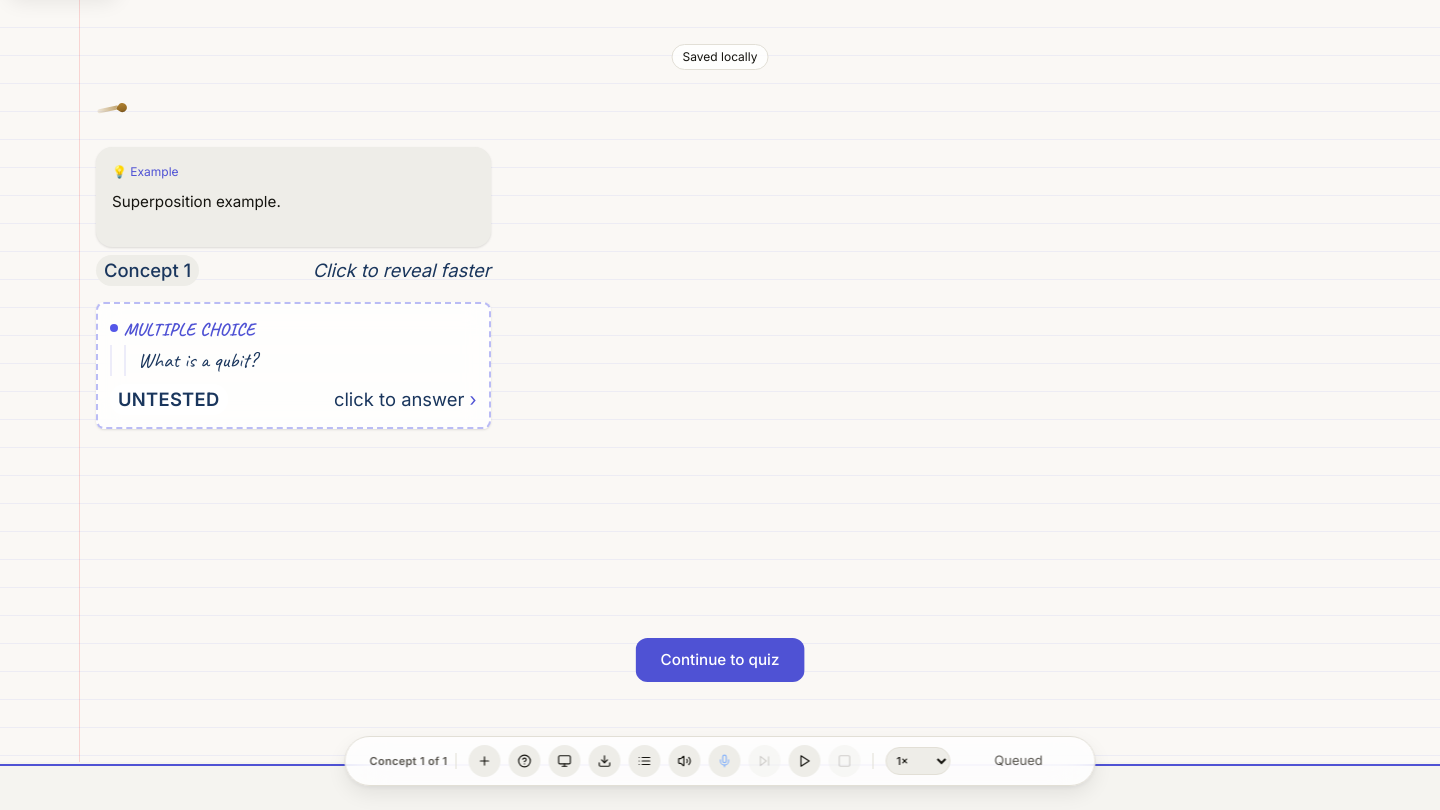
Test: CanvasPage — notebook-mode outline/TOC (NB-5) › renders a table-of-contents button and opens the outline with node titles
The image size is (1440, 810).
What coordinates should you click on to do the following:
click the button titled "Table of contents"
I would click on:
 (644, 761)
Its box is x1=628 y1=745 x2=660 y2=777.
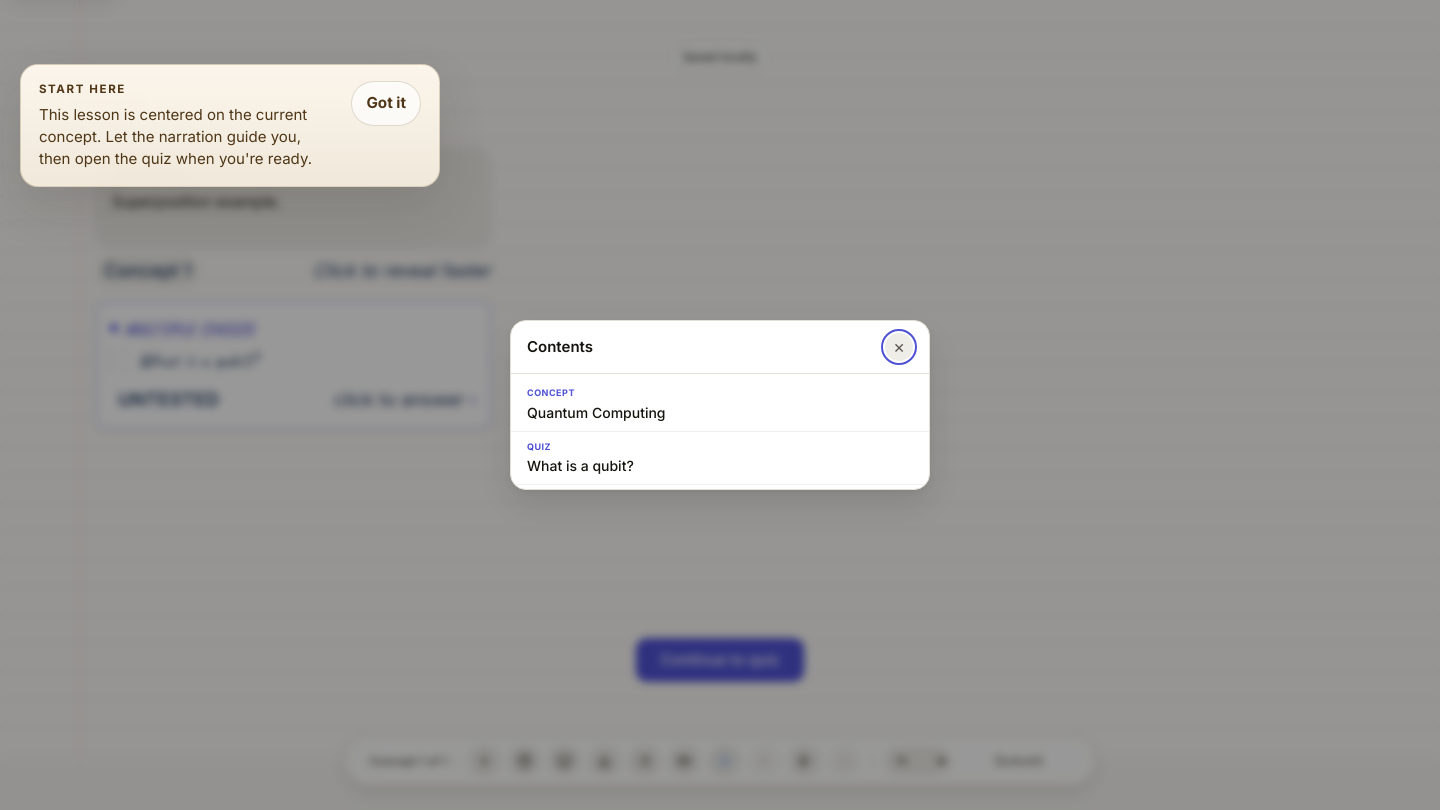
Now the dialog named "Table of contents" is shown, box x1=510 y1=320 x2=930 y2=490
Now the text "Quantum Computing" is shown, box x1=527 y1=402 x2=666 y2=422
